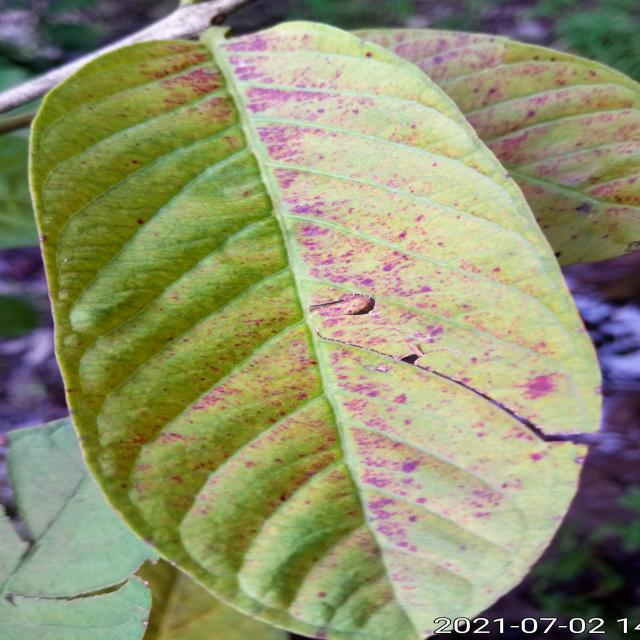Red Rust: (31, 22, 636, 640)
